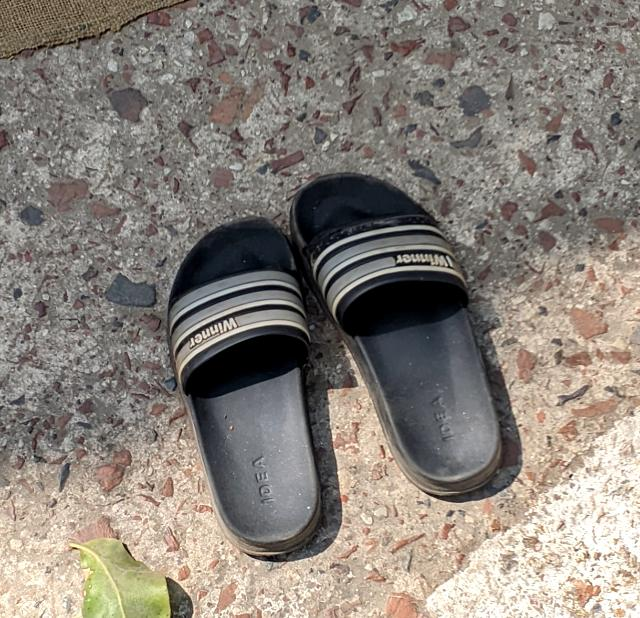sandal: (293, 162, 525, 518), (169, 220, 325, 561)
